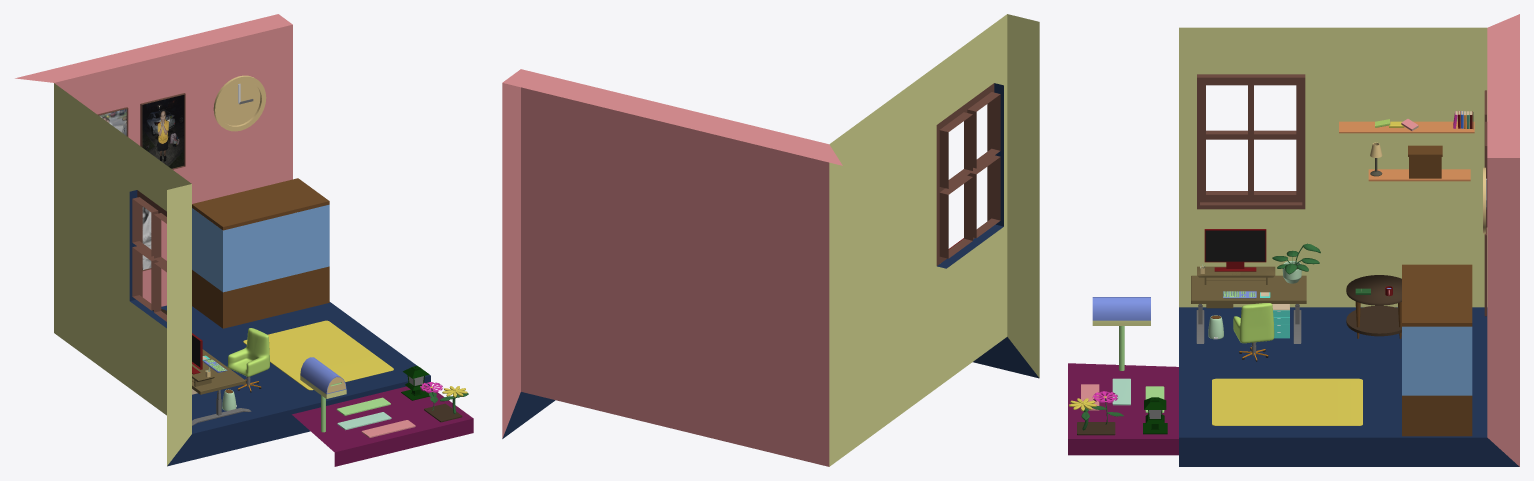
File: ThreeJsRoom.glb
The picture shows the model from 3 angles, left to right: view 1: azimuth 30°, elevation 25°; view 2: azimuth 150°, elevation 25°; view 3: azimuth 270°, elevation 25°; orthographic projection. The views are drawn at different scales.
Visible parts, largest first — view 1: Room, Fish Tank, AquaGlass, Front Porch, Cube.016, Window, Maddison Picture, Cylinder.017, Cylinder.018, Seat, Table Top, Outside Lantarn (+4 smaller); view 2: Room, Window; view 3: Room, Front Porch, Fish Tank, Cube.016, Window, AquaGlass, Table Top, Cylinder.018, Screen, Seat, Shelf2, Cylinder.014 (+10 smaller).
Boxes of the visible parts, x1,y1,x2,y2 form: Room: (15,14,430,466); Fish Tank: (192,178,329,328); AquaGlass: (192,204,329,292); Front Porch: (292,382,473,466); Cube.016: (243,320,393,390); Window: (132,190,166,321); Maddison Picture: (142,95,183,168); Cylinder.017: (213,75,266,131); Cylinder.018: (300,357,346,432); Seat: (227,328,269,376); Table Top: (192,349,245,394); Outside Lantarn: (401,365,429,400); Room: (502,14,1039,466); Window: (936,83,1000,265); Room: (1179,14,1519,466); Front Porch: (1068,363,1178,455); Fish Tank: (1402,264,1472,436); Cube.016: (1212,378,1362,425); Window: (1197,74,1305,209); AquaGlass: (1402,326,1472,395); Table Top: (1191,275,1306,303); Cylinder.018: (1092,297,1150,370); Screen: (1205,230,1265,261); Seat: (1233,303,1274,343); Shelf2: (1339,121,1474,133); Cylinder.014: (1346,305,1401,336).
Size of the model in its own units: 17.75 by 17.75 by 23.53.
Materials: 55 (3 with a texture image).
